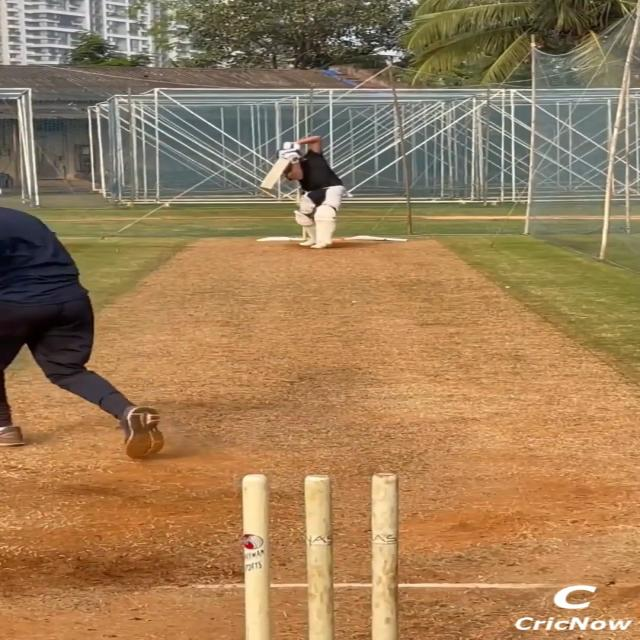stump: (239, 472, 402, 640)
